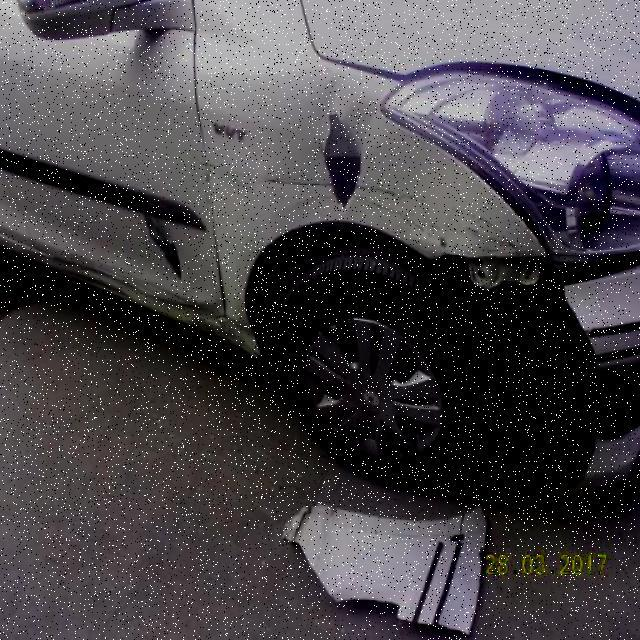car damage: (440, 253, 640, 497), (268, 174, 525, 255), (317, 108, 365, 212), (136, 200, 184, 285)
